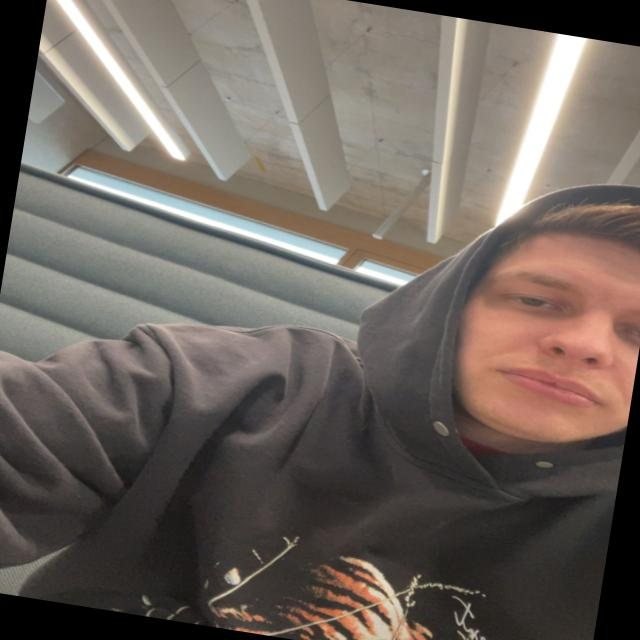JeremiasDiaz: (441, 178, 640, 463)
